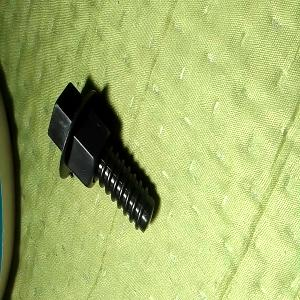parafuso: (47, 83, 155, 235)
